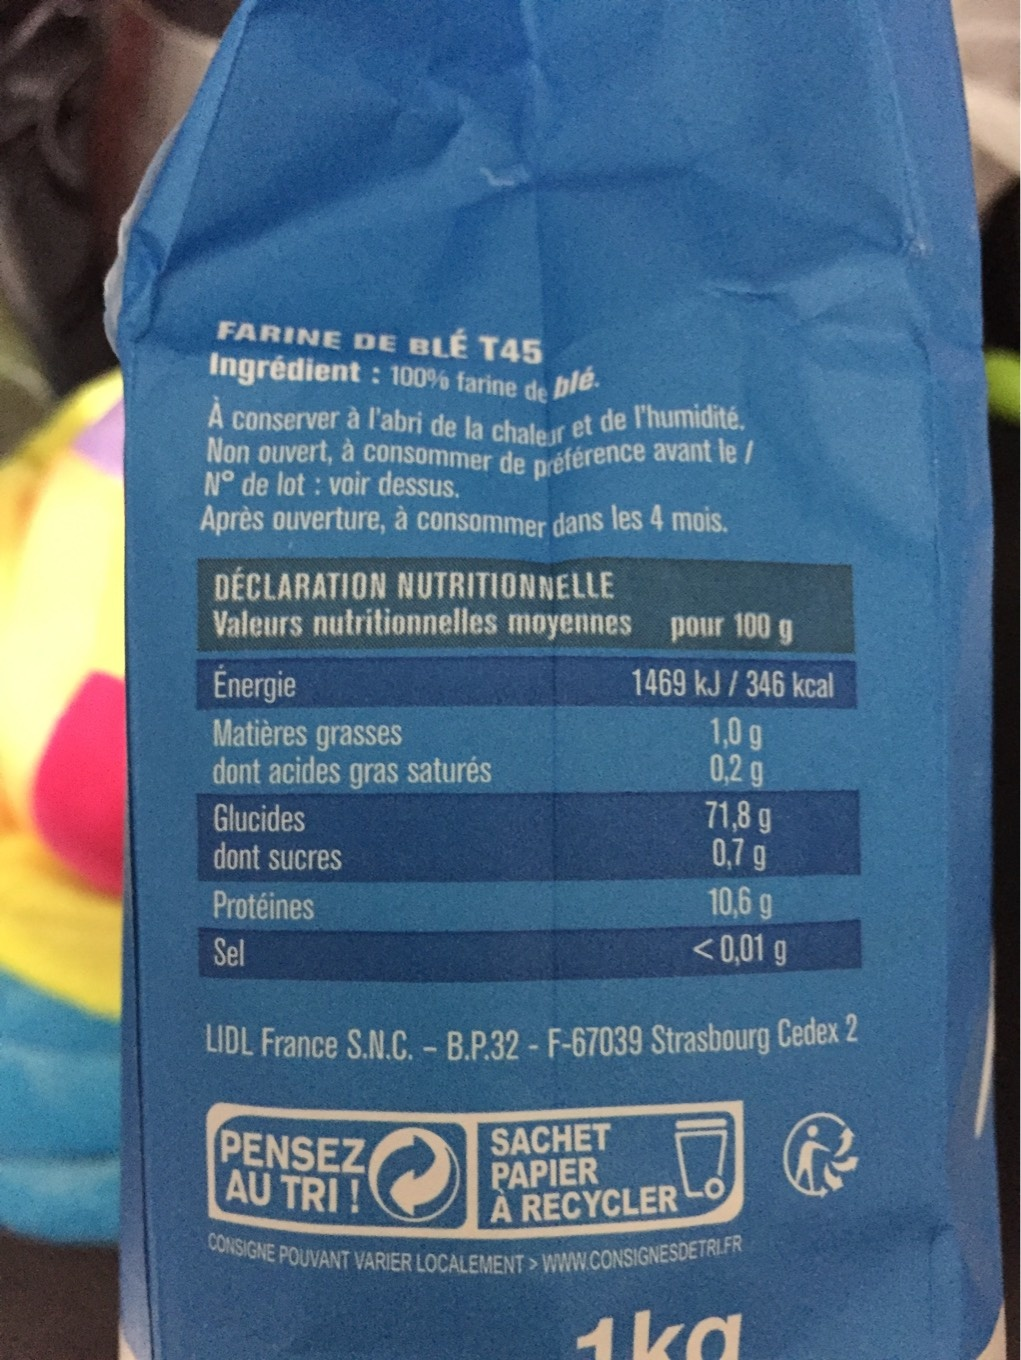column: (194, 663, 493, 993), (625, 661, 837, 992)
table: (187, 655, 865, 997)
